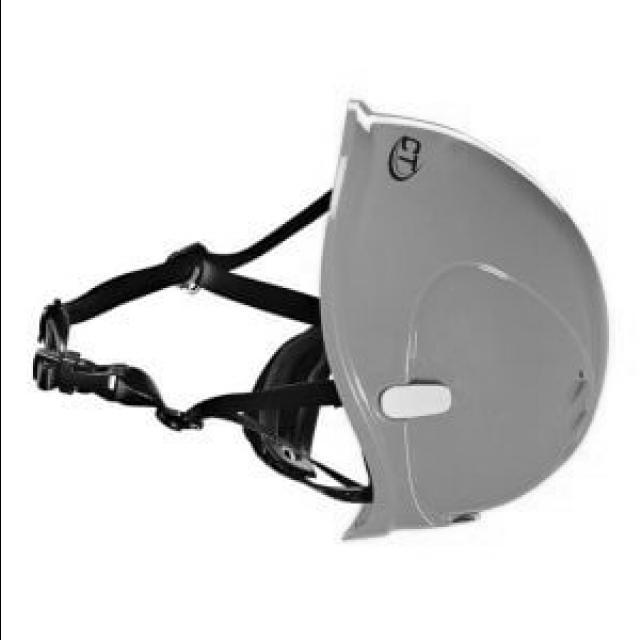safety_helmet: (316, 100, 606, 542)
